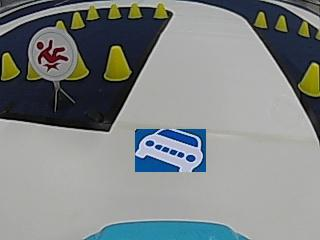cone: (104, 44, 131, 82), (298, 59, 318, 98), (0, 52, 18, 80), (26, 61, 40, 81), (128, 2, 142, 19), (254, 10, 267, 28), (71, 11, 84, 29), (154, 2, 167, 19), (275, 14, 287, 32), (86, 4, 99, 20), (108, 3, 121, 19), (298, 20, 309, 37)
tumble: (35, 36, 69, 70)
